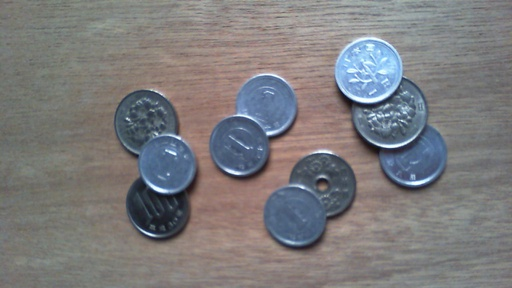100yen: (351, 73, 428, 149), (113, 89, 179, 157), (126, 170, 190, 239)
1yen: (378, 121, 447, 188), (334, 37, 402, 104), (263, 183, 326, 248), (235, 73, 297, 137), (209, 114, 270, 177), (137, 133, 197, 194)
